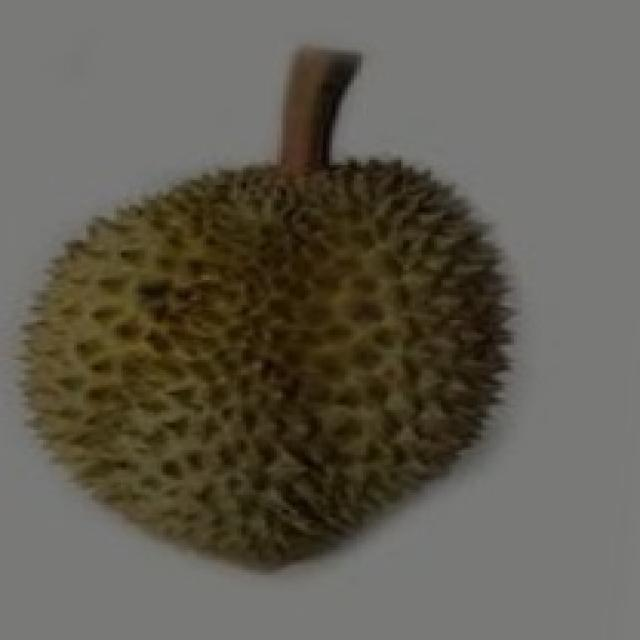fruit: (0, 160, 363, 608)
